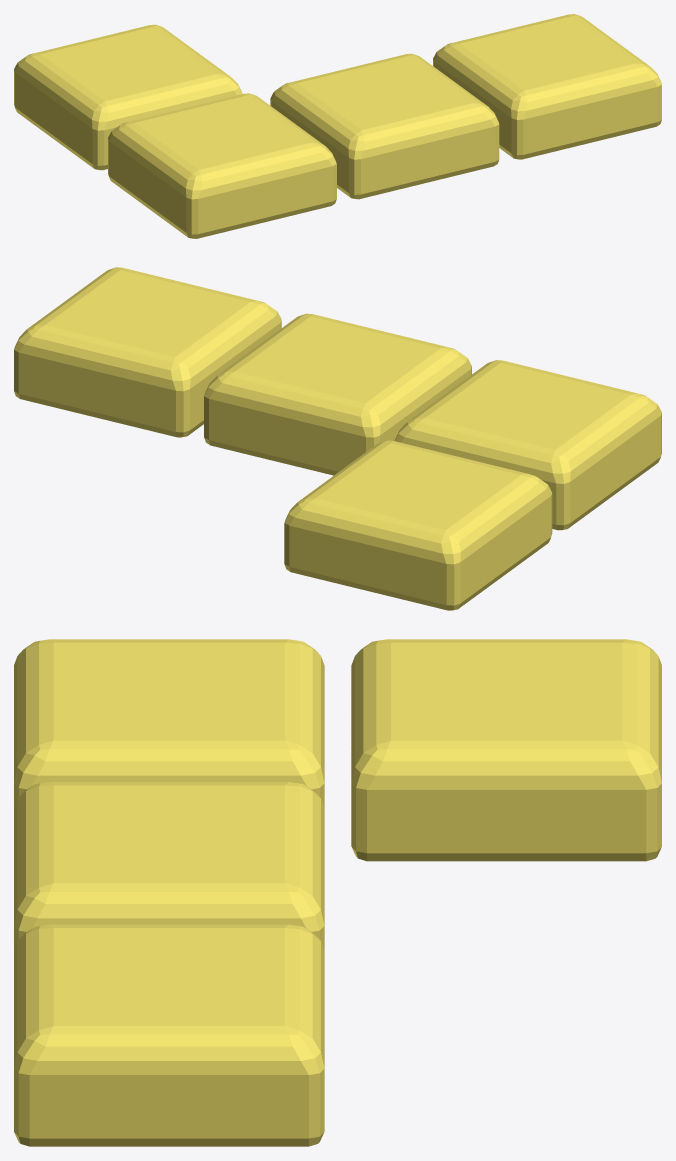
Rendered from KO_Tetris_1.fbx.
3 renders of one model, top to bottom at view 1: azimuth 30°, elevation 25°; view 2: azimuth 150°, elevation 25°; view 3: azimuth 270°, elevation 25°, orthographic. The views are drawn at different scales.
Visible parts, largest first — view 1: Tetris_J; view 2: Tetris_J; view 3: Tetris_J.
Boxes of the visible parts, x1,y1,x2,y2 form: Tetris_J: (14, 14, 661, 238); Tetris_J: (14, 267, 661, 610); Tetris_J: (14, 639, 661, 1146).
Bounding box in the file's own units: 292 × 36 × 192.
